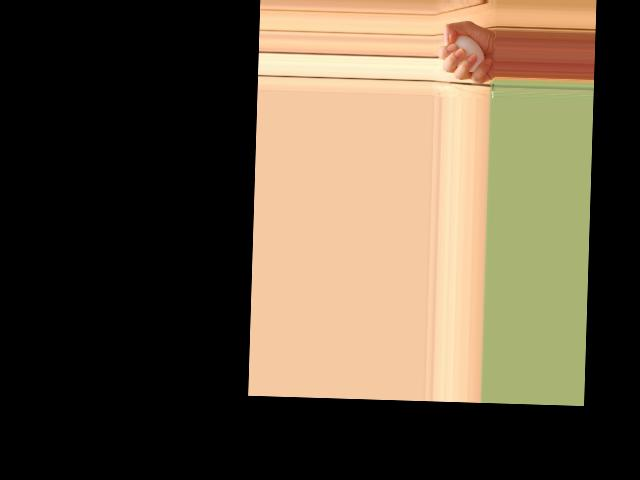egg: (454, 35, 485, 73)
